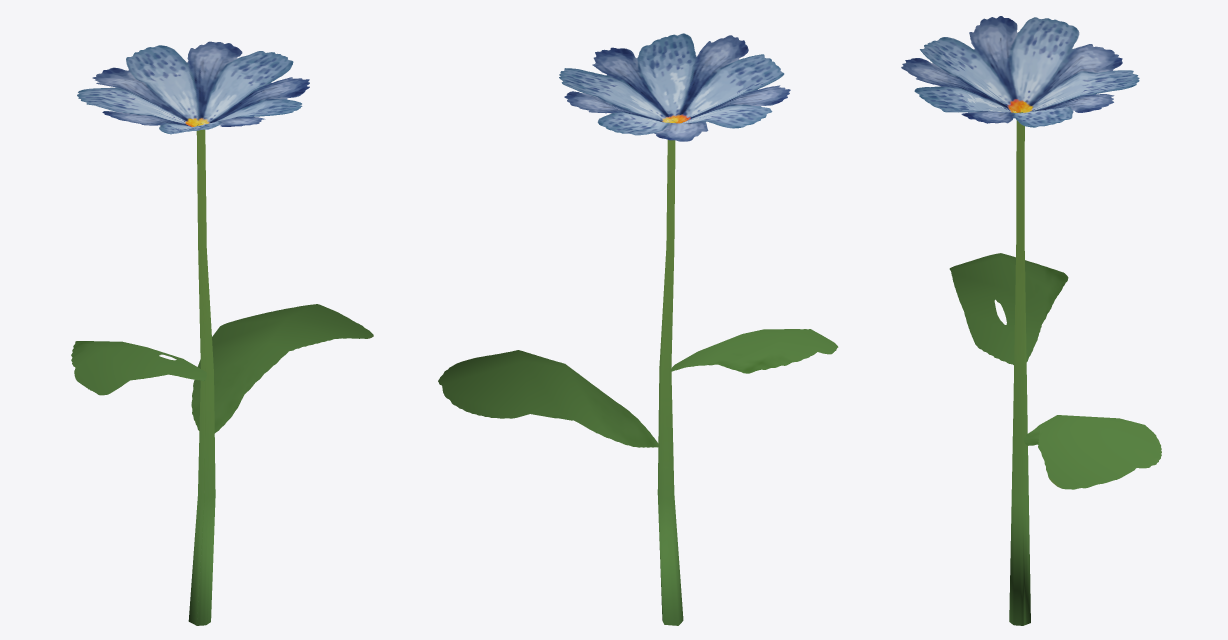
The model's file is FlowerA.fbx.
3 views of the same model, side by side, from view 1: azimuth 30°, elevation 25°; view 2: azimuth 150°, elevation 25°; view 3: azimuth 270°, elevation 25° (orthographic). The views are drawn at different scales.
Parts seen in each view (by area): view 1: FlowerALOD0; view 2: FlowerALOD0; view 3: FlowerALOD0.
Boxes of the visible parts, bbox=[...] form: FlowerALOD0: bbox=[71, 41, 373, 625]; FlowerALOD0: bbox=[438, 33, 838, 625]; FlowerALOD0: bbox=[901, 16, 1161, 625].
Size of what is drawn, in the model's own units: 39.52 by 53.72 by 27.46.
